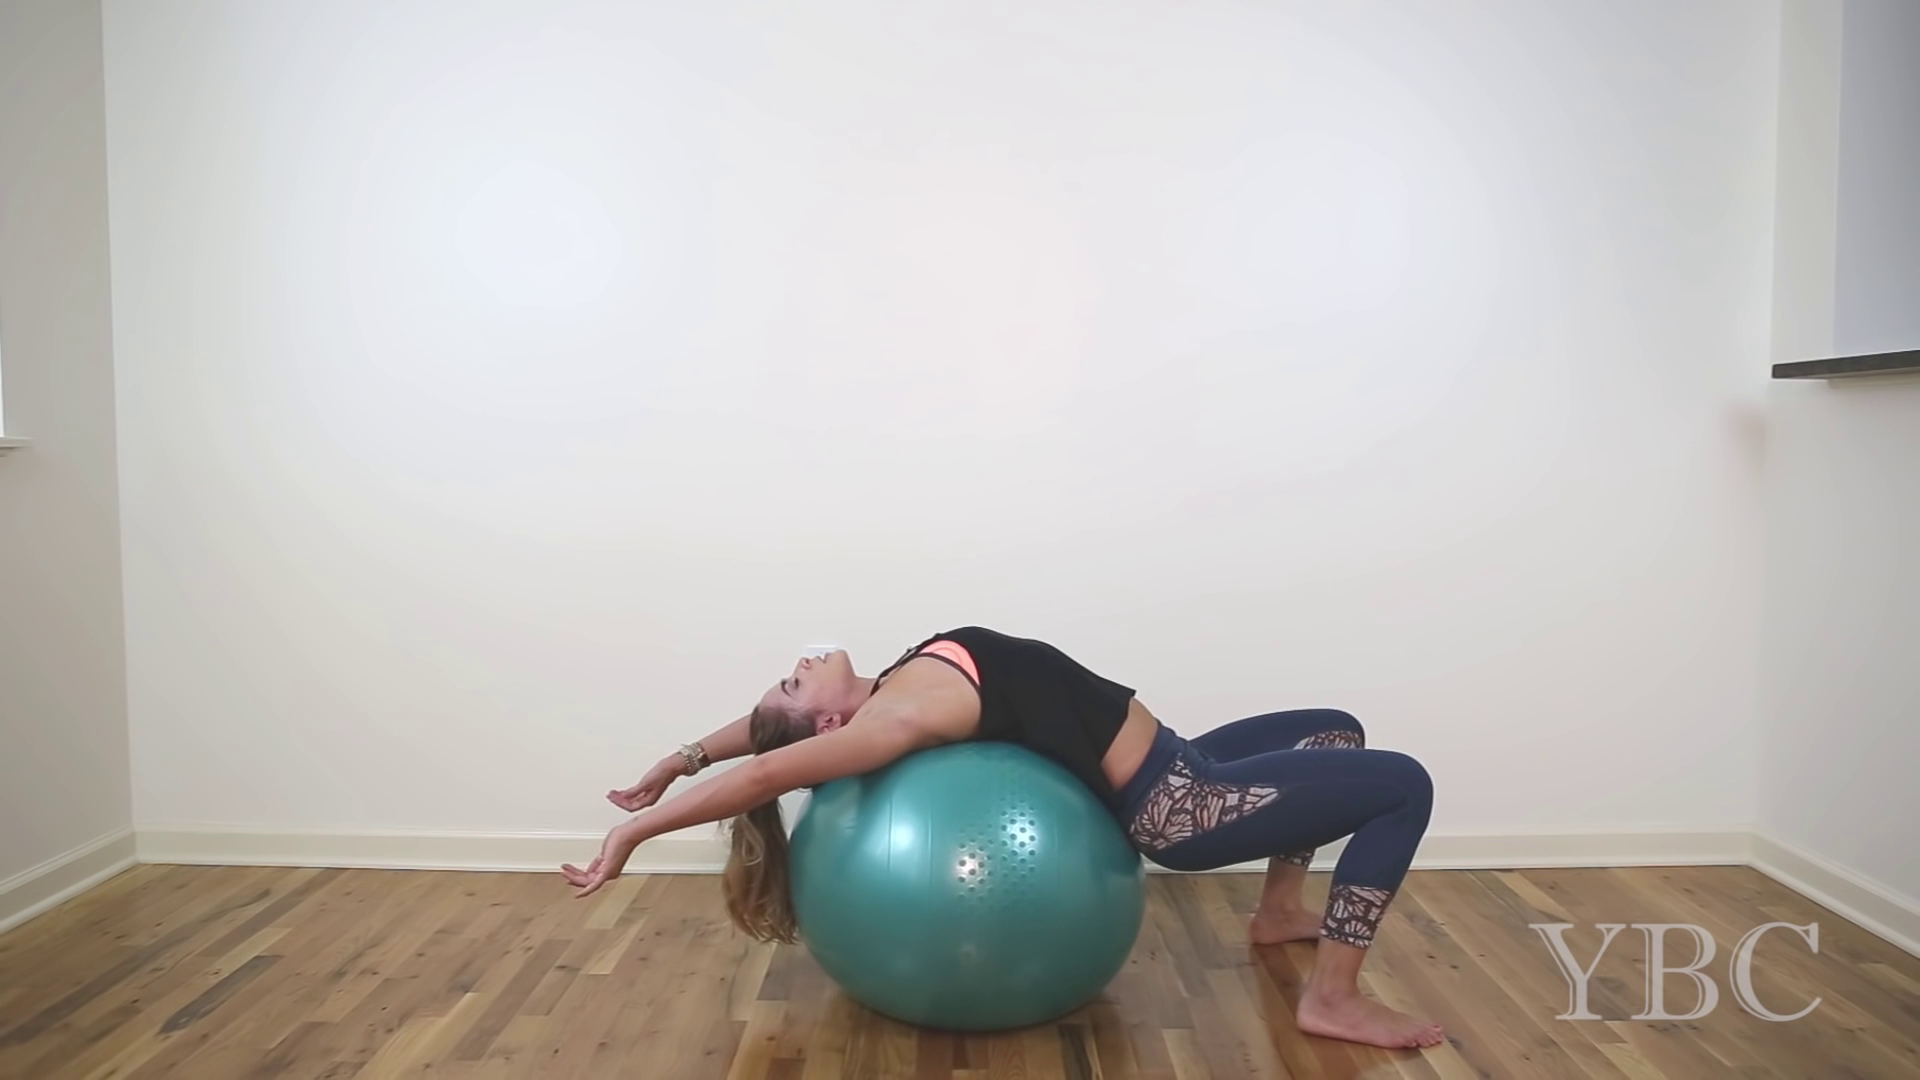yogaball: (775, 732, 1160, 1048)
